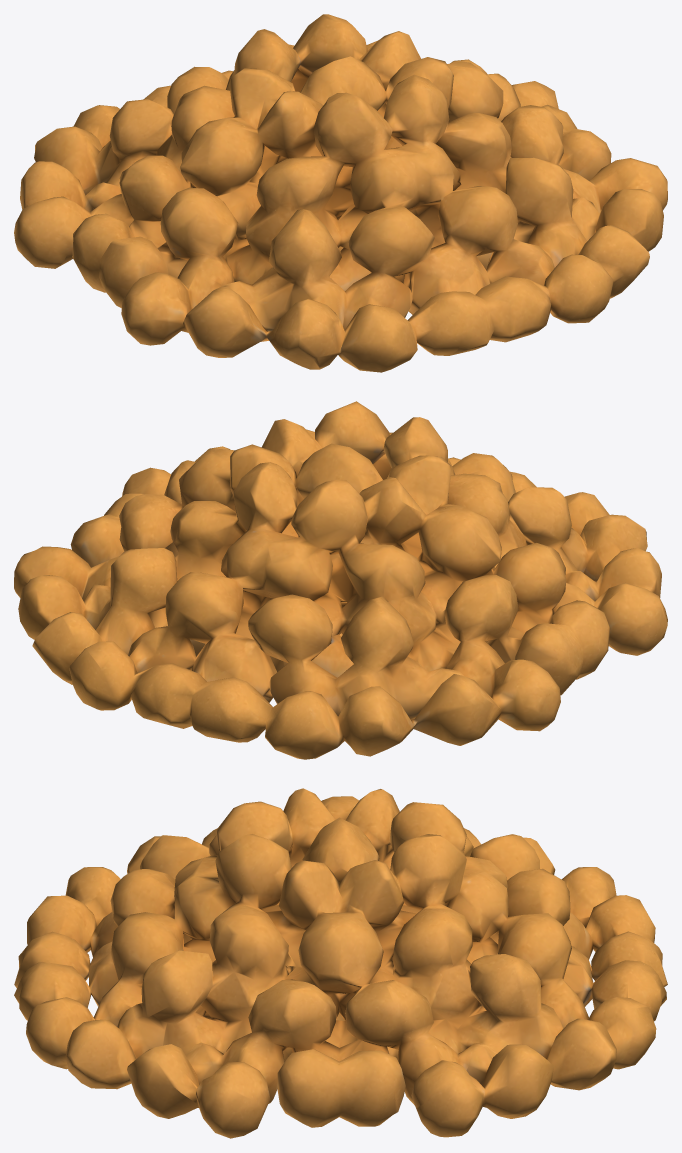
The model's file is Meshy_AI_Garbanzos_cocidos_20261118_texture.fbx.
3 views of the same model, one above another, from view 1: azimuth 30°, elevation 25°; view 2: azimuth 150°, elevation 25°; view 3: azimuth 270°, elevation 25° (orthographic). The views are drawn at different scales.
Parts seen in each view (by area): view 1: Mesh_0; view 2: Mesh_0; view 3: Mesh_0.
Boxes of the visible parts, left/top/right/bottom form: Mesh_0: left=14, top=14, right=667, bottom=372; Mesh_0: left=14, top=401, right=667, bottom=759; Mesh_0: left=14, top=788, right=667, bottom=1138.
Bounding box in the file's own units: 184 × 62.57 × 188.
1 material, 1 textured.
